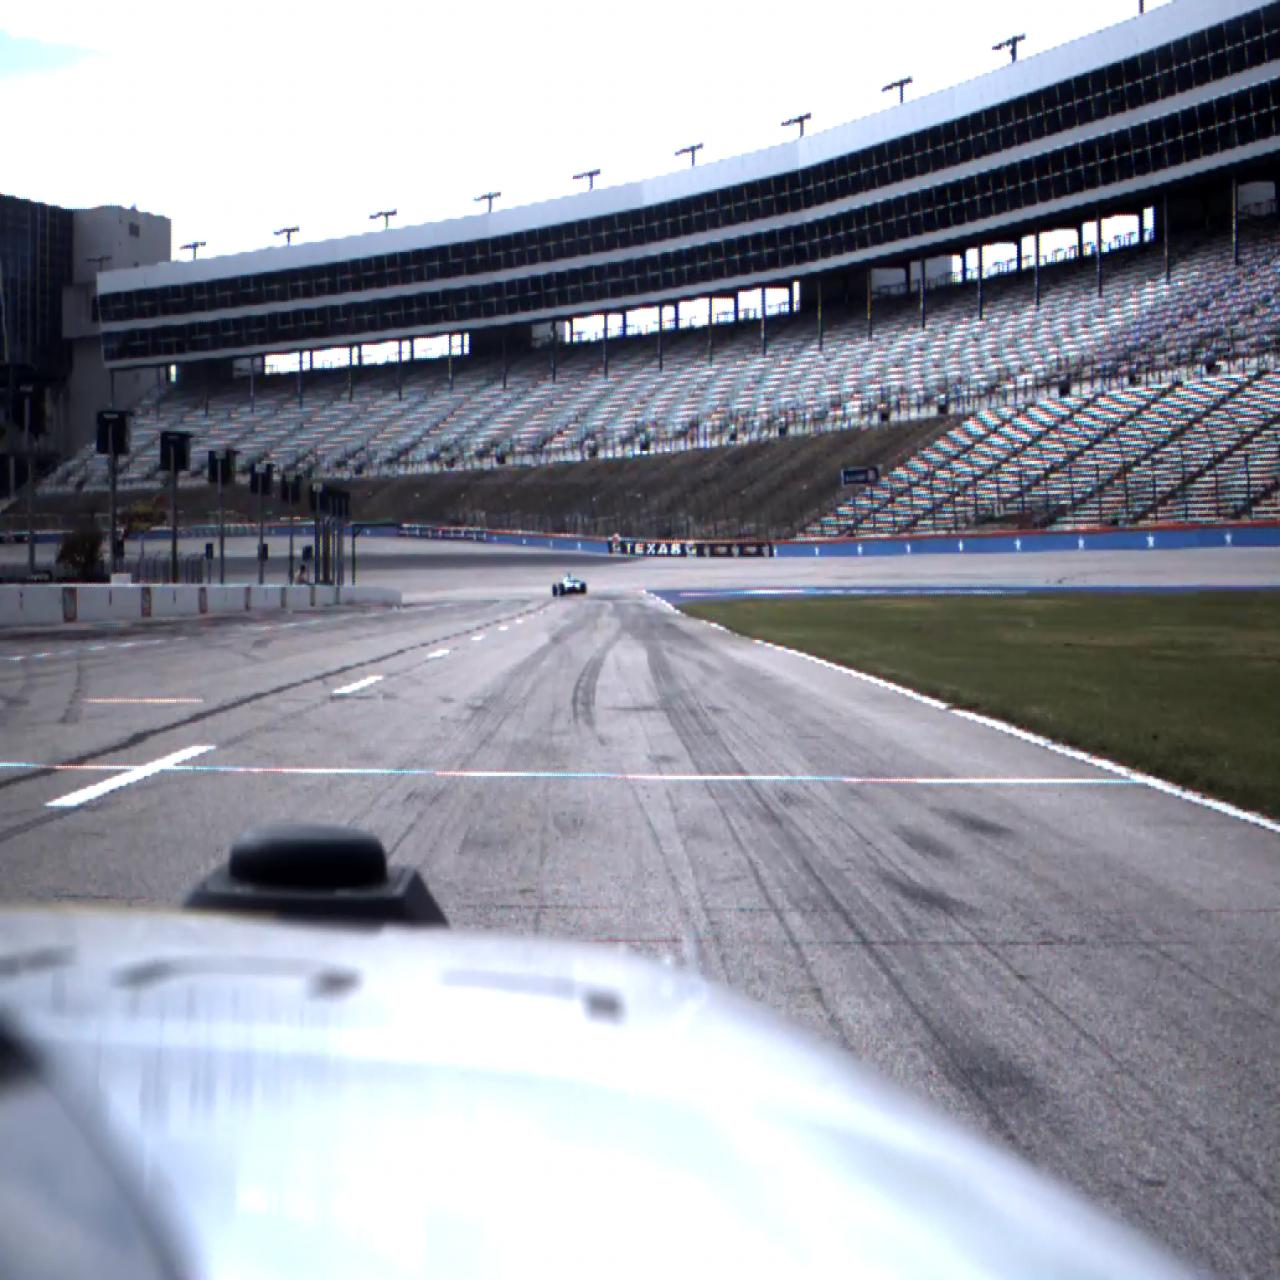AV: (552, 572, 586, 597)
Wheel: (580, 583, 586, 593), (552, 584, 557, 597), (560, 584, 565, 595)
